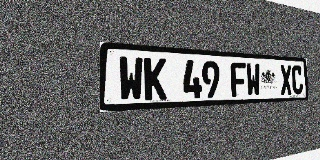4: (183, 59, 202, 99)
9: (202, 60, 220, 98)
C: (291, 65, 303, 94)
F: (231, 62, 246, 97)
K: (144, 57, 167, 100)
W: (118, 56, 144, 101), (246, 63, 261, 96)
X: (280, 65, 292, 95)
